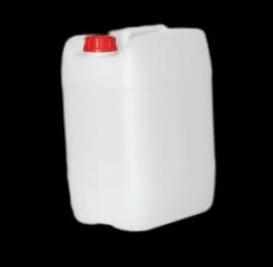Plastik: (61, 24, 215, 230)
